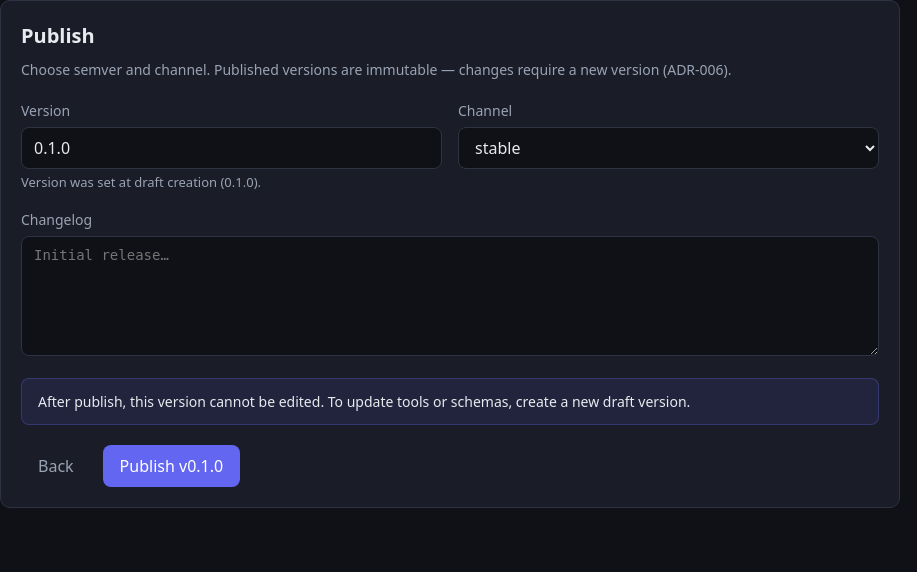
Scenario: PublishStep › shows publish API errors
Click the button "Publish v0.1.0" at (171, 466), box x1=103 y1=444 x2=240 y2=486
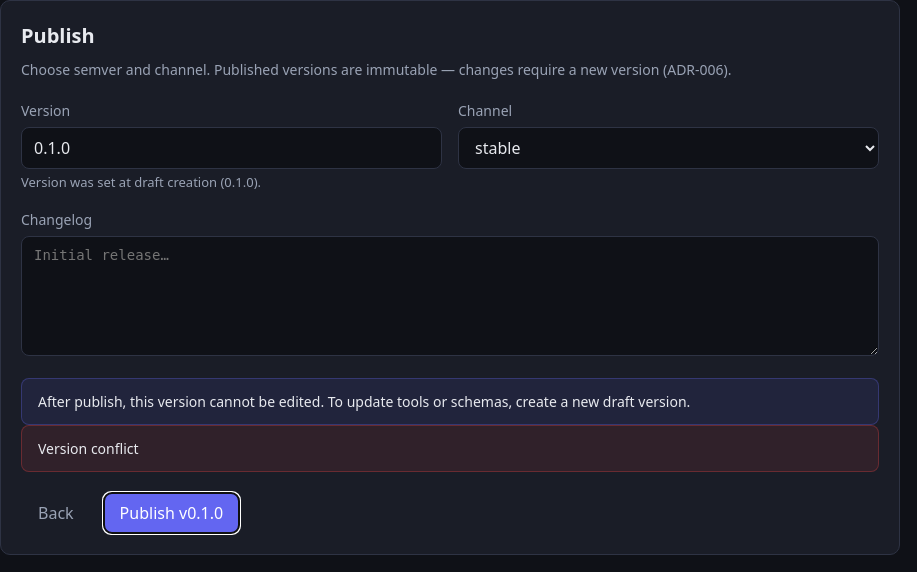
Check: the text "Version conflict" is shown, box x1=21 y1=424 x2=879 y2=472
